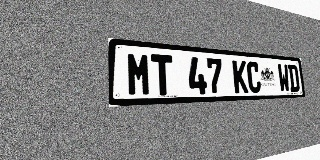4: (187, 57, 207, 95)
7: (206, 58, 224, 94)
C: (246, 61, 261, 93)
D: (288, 64, 300, 92)
K: (232, 60, 248, 93)
M: (126, 52, 151, 96)
T: (151, 54, 174, 96)
W: (277, 64, 290, 92)
